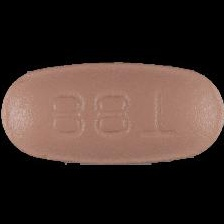67296-0595: (0, 0, 224, 224)
